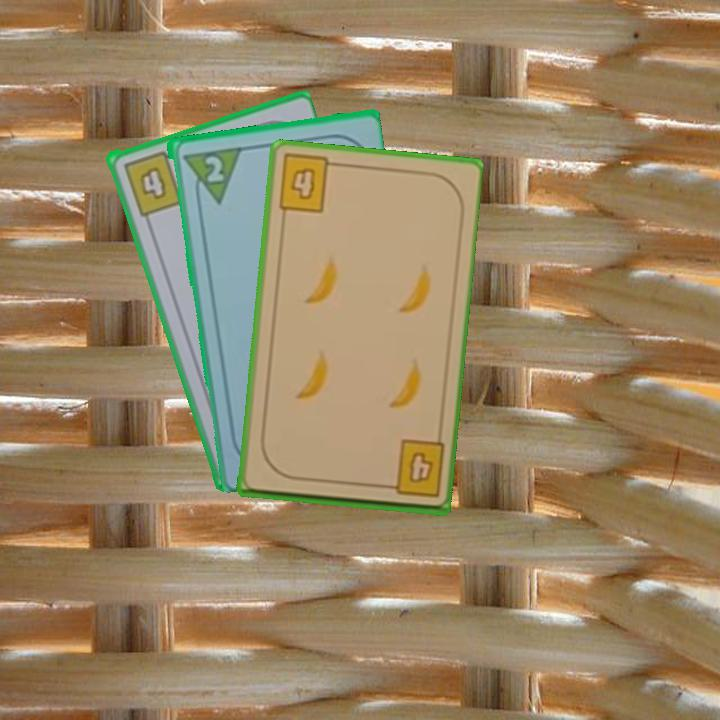2p: (178, 143, 242, 208)
4b: (119, 146, 185, 219), (377, 437, 447, 501), (275, 152, 341, 217)
